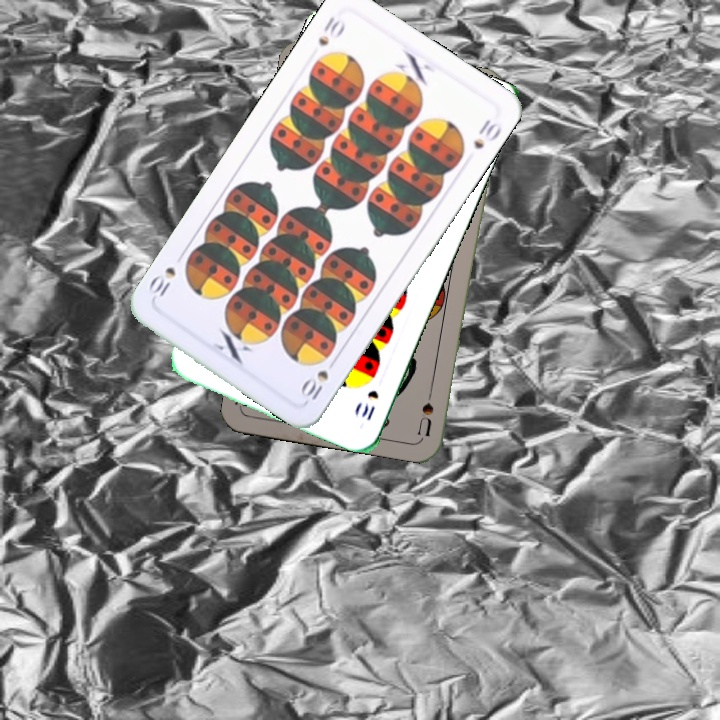S10: (297, 353, 339, 403), (314, 11, 348, 49), (357, 386, 381, 424)
SU: (413, 378, 437, 438)
